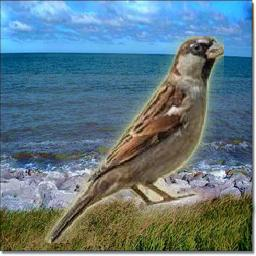Sparrow: (46, 37, 225, 244)
